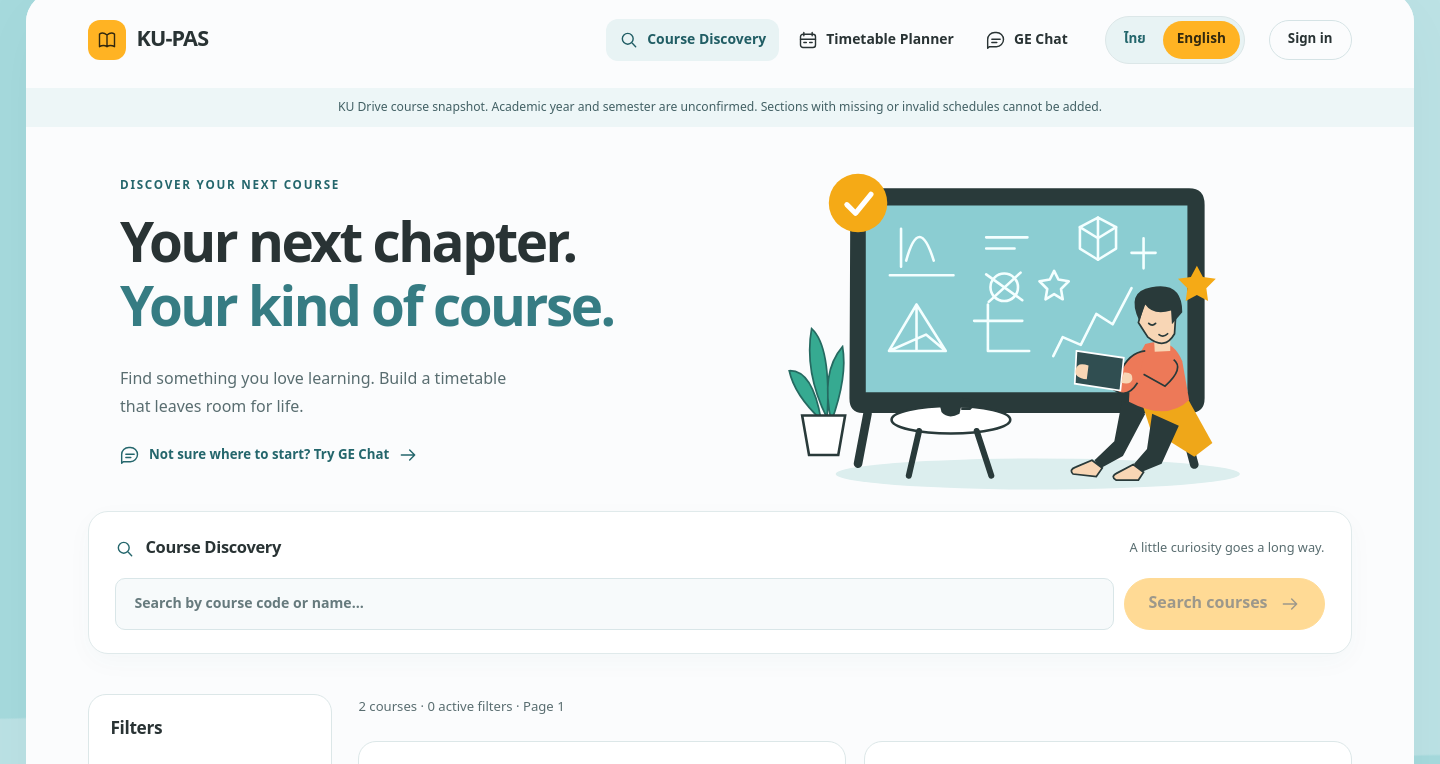
Test: switches the entire interface without losing the draft or canonical filters
Type "Programming" into the field named "Course search".
click(614, 604); type("Programming")  # box 116,578 -> 1114,630
(page scrolled)
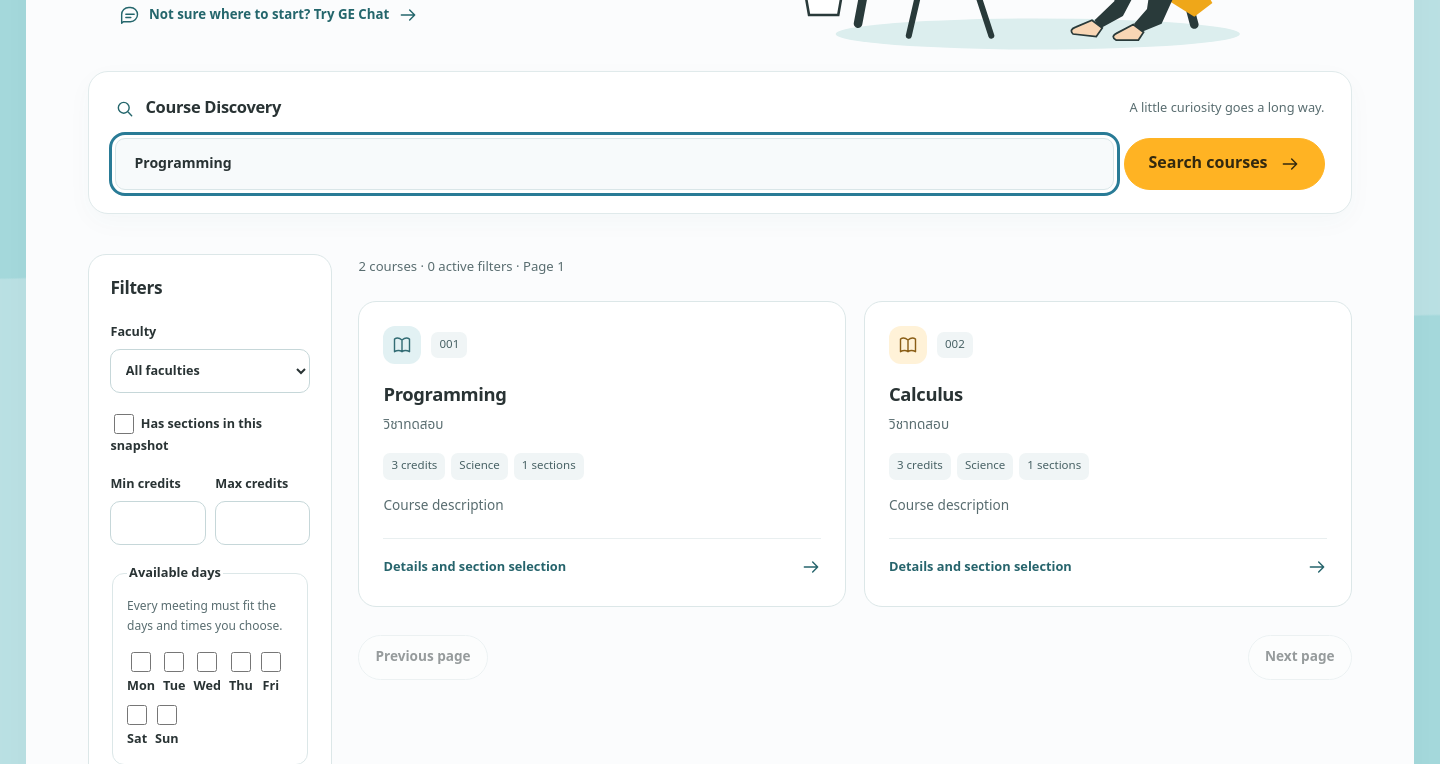
Select "Science" in the dropdown labelled "Faculty" at (210, 371), box 110,349 -> 310,393
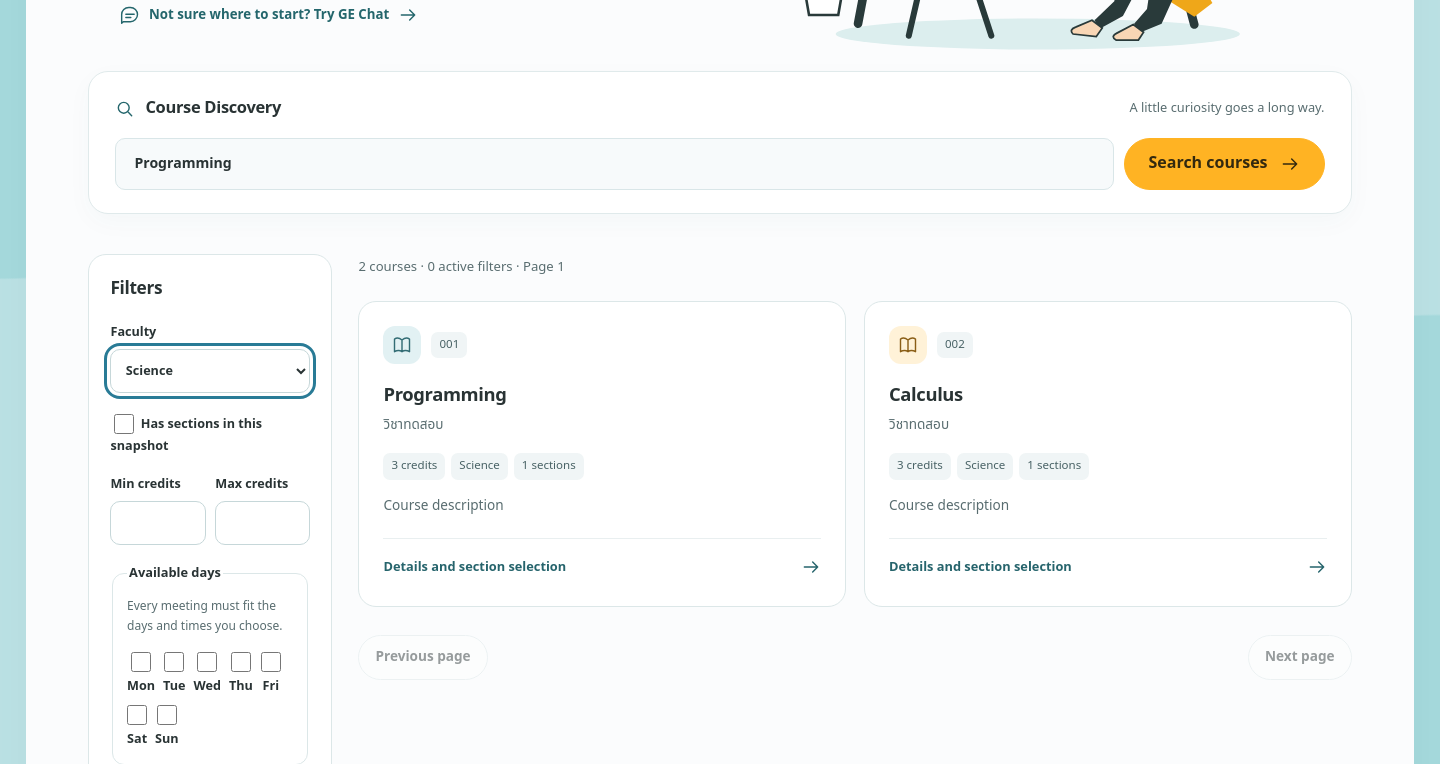
Click the checkbox labelled "Mon".
click(141, 662)  # box 131,652 -> 151,672
(page scrolled)
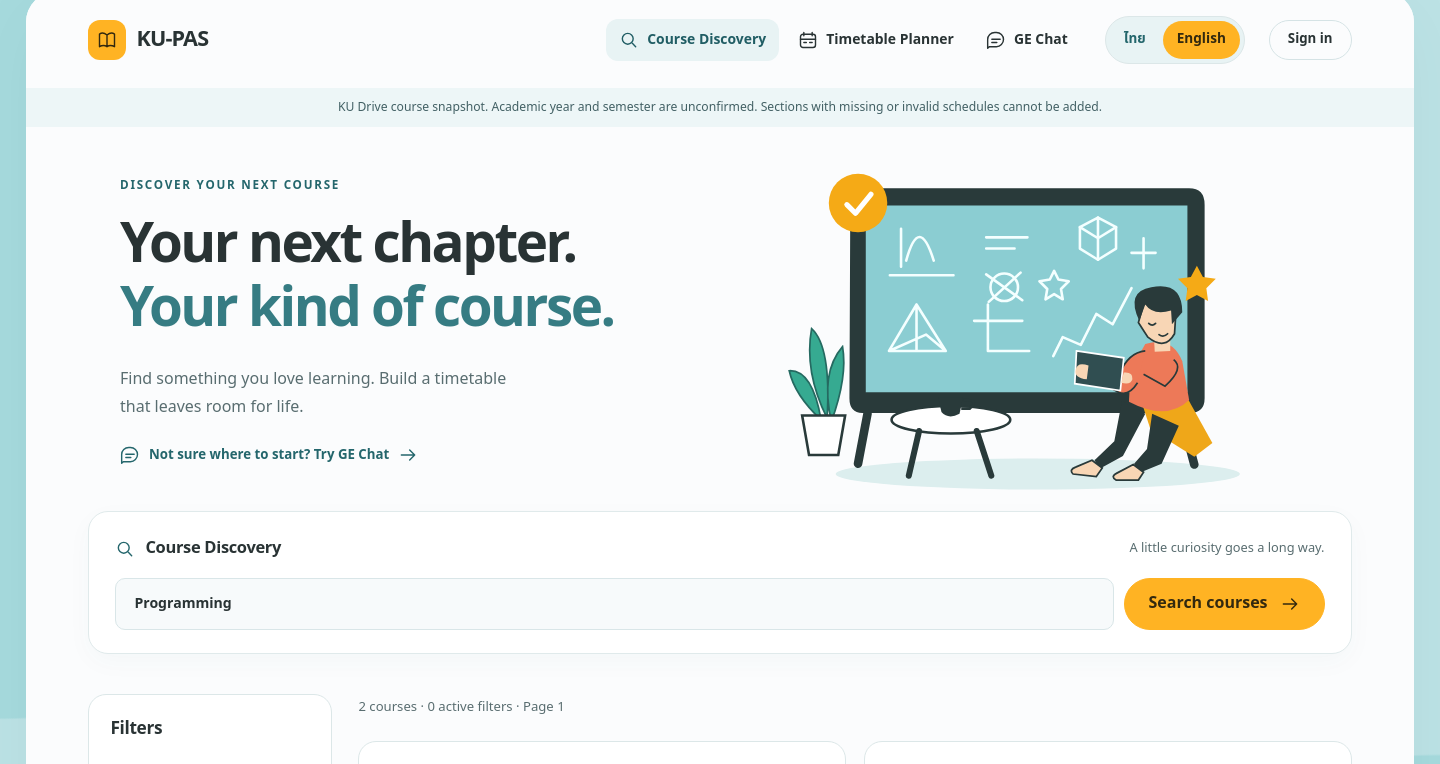
Click the button "ไทย".
click(1135, 40)  # box 1110,21 -> 1160,59
(page scrolled)
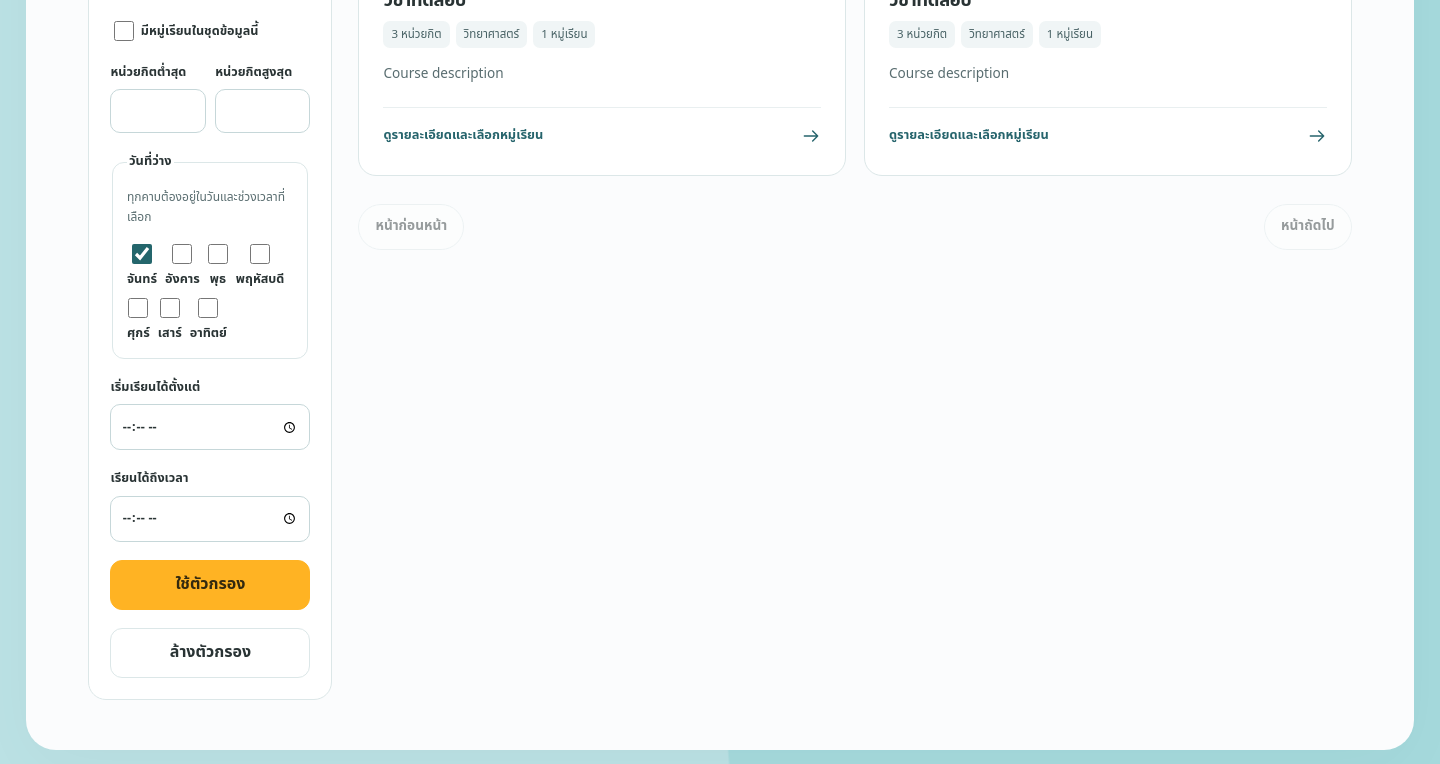
Expected: the checkbox labelled "จันทร์" is checked, 132,244 -> 152,264
Click the button "ใช้ตัวกรอง".
click(210, 585)  # box 110,560 -> 310,610
(page scrolled)
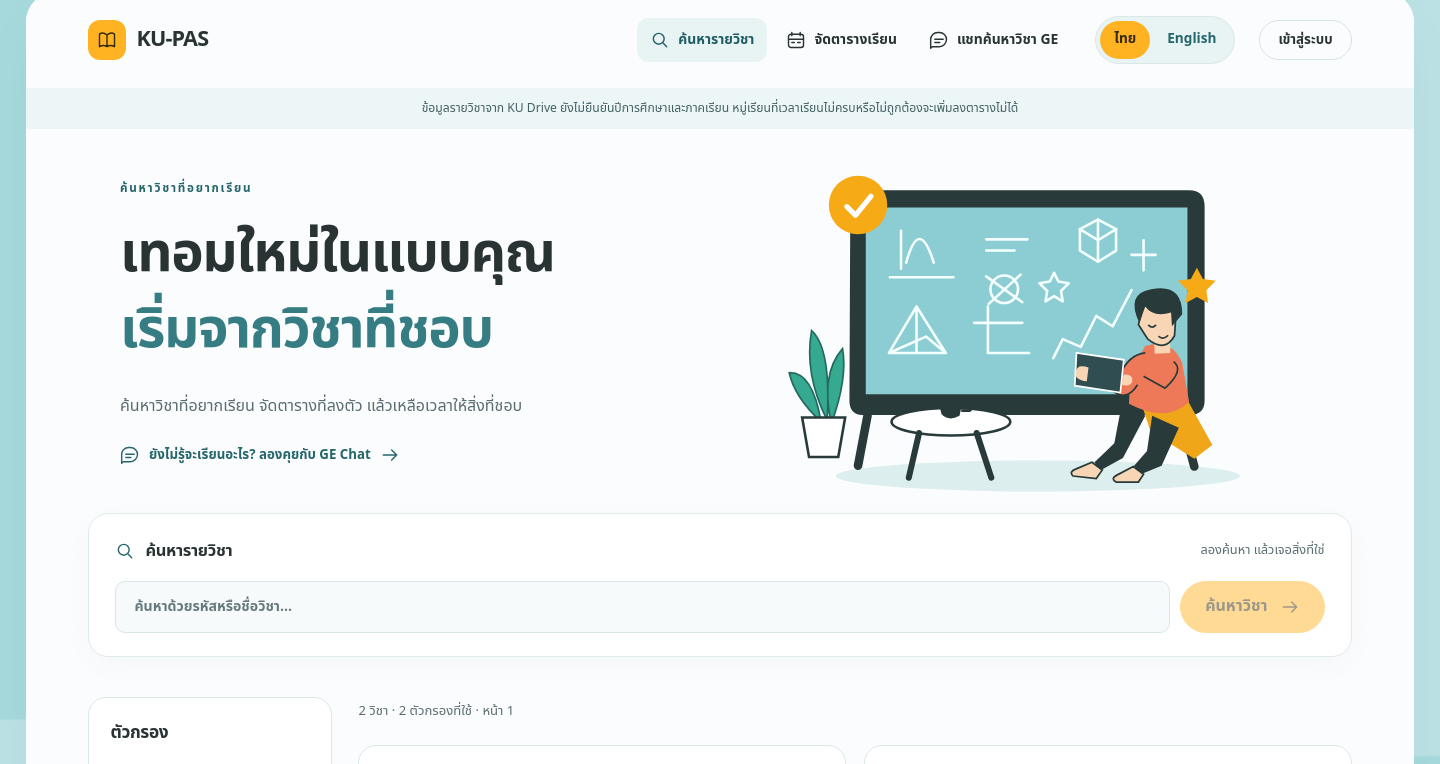
Click the button "English".
click(1192, 40)  # box 1153,21 -> 1230,59
(page scrolled)
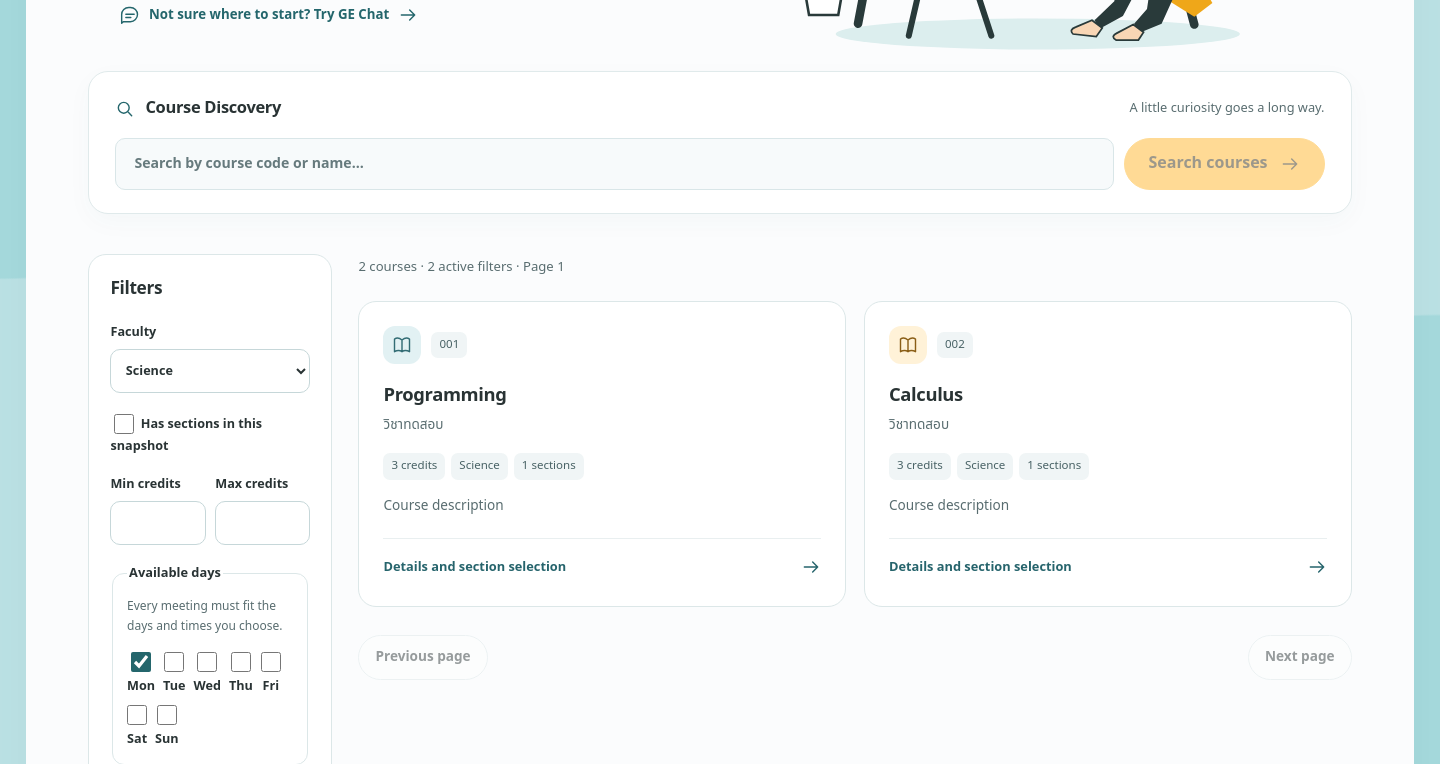
Expected: the dropdown labelled "Faculty" shows "Science", 110,349 -> 310,393
